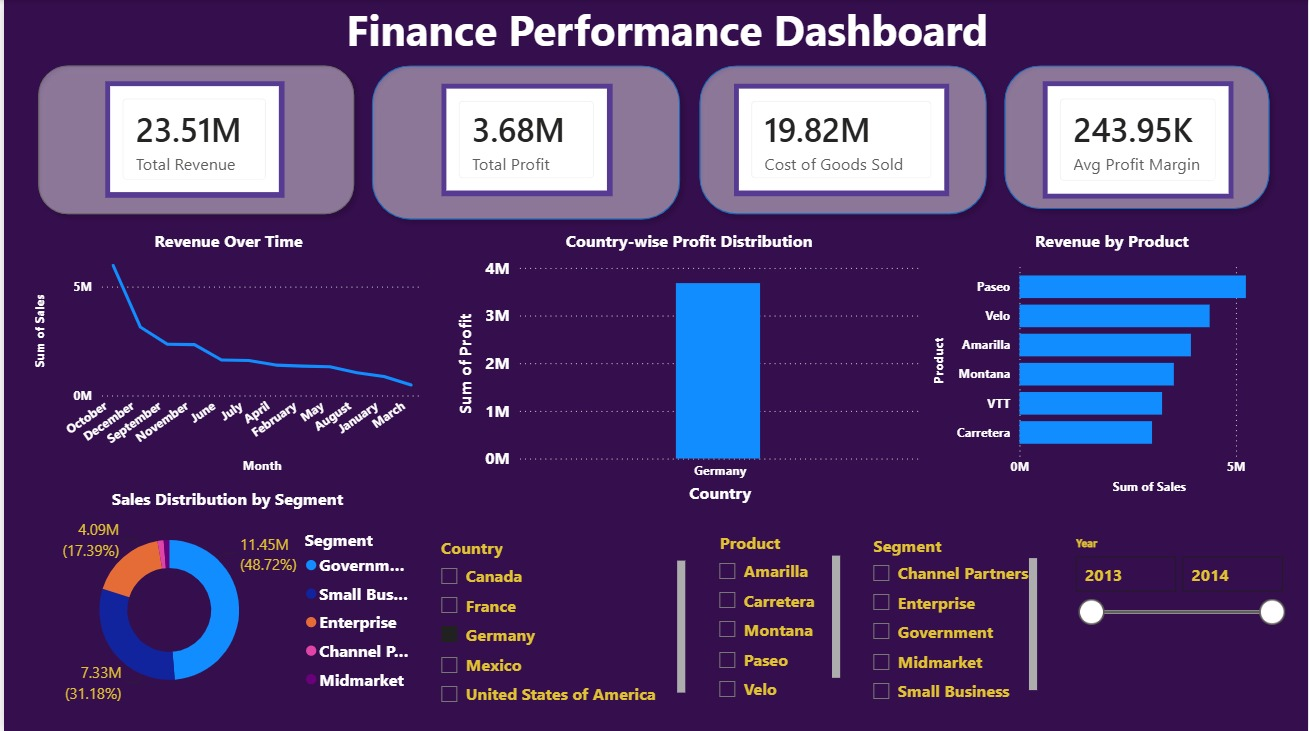

Layout of this report page (visuals, bound fields, positions):
{"tool":"powerbi","page":{"name":"Page 1","canvas":[1280,720],"ordinal":0},"visuals":[{"type":"shape","box":[24.4,55.1,328.2,164.1],"z":0},{"type":"cardVisual","fields":{"Data":["Sum(financials. Sales)"]},"box":[100,79.5,175.6,114.1],"z":1000},{"type":"shape","box":[352.6,55.1,320.5,169.2],"z":2000},{"type":"cardVisual","fields":{"Data":["Sum(financials.Profit)"]},"box":[429.5,82.1,167.9,110.3],"z":3000},{"type":"shape","box":[673.1,55.1,300,164.1],"z":4000},{"type":"cardVisual","fields":{"Data":["Sum(financials.COGS)"]},"box":[716.7,82.1,211.5,110.3],"z":5000},{"type":"lineChart","title":"Revenue Over Time","fields":{"Category":["financials.Month Name"],"Y":["Sum(financials. Sales)"]},"box":[25.6,224.4,389.7,244.9],"z":6000},{"type":"clusteredColumnChart","title":"Country-wise Profit Distribution","fields":{"Category":["financials.Country"],"Y":["Sum(financials.Profit)"]},"box":[441,224.4,464.1,274.4],"z":7000},{"type":"clusteredBarChart","title":"Revenue by Product","fields":{"Category":["financials.Product"],"Y":["Sum(financials. Sales)"]},"box":[907.7,224.4,359,265.4],"z":8000},{"type":"donutChart","title":"Sales Distribution by Segment","fields":{"Category":["financials.Segment"],"Y":["Sum(financials. Sales)"]},"box":[24.4,478.2,389.7,219.2],"z":9000},{"type":"slicer","fields":{"Values":["financials.Country"]},"box":[415.4,521.8,257.7,175.6],"z":10000},{"type":"slicer","fields":{"Values":["financials.Product"]},"box":[689.7,516.7,135.9,178.2],"z":11000},{"type":"slicer","fields":{"Values":["financials.Segment"]},"box":[841,519.2,178.2,175.6],"z":12000},{"type":"slicer","fields":{"Values":["financials.Year"]},"box":[1039.7,521.8,226.9,98.7],"z":13000},{"type":"shape","box":[973.1,55.1,278.2,159],"z":14000},{"type":"cardVisual","fields":{"Data":["Sum(financials.Profit Margin)"]},"box":[1019.2,79.5,187.2,115.4],"z":15000},{"type":"actionButton","title":"Finance Performance Dashboard","box":[188.5,0,924.4,55.1],"z":16000}]}

Visuals, with their boxes in screenshot pixels (x1, y1, x2, y2), scaled from the page's 1280x720 canvas onto the 1309x731 screenshot:
shape: 25, 56, 361, 223
cardVisual - Sum(financials. Sales): 102, 81, 282, 197
shape: 361, 56, 688, 228
cardVisual - Sum(financials.Profit): 439, 83, 611, 195
shape: 688, 56, 995, 223
cardVisual - Sum(financials.COGS): 733, 83, 949, 195
"Revenue Over Time" lineChart: 26, 228, 425, 476
"Country-wise Profit Distribution" clusteredColumnChart: 451, 228, 926, 506
"Revenue by Product" clusteredBarChart: 928, 228, 1295, 497
"Sales Distribution by Segment" donutChart: 25, 486, 423, 708
slicer - financials.Country: 425, 530, 688, 708
slicer - financials.Product: 705, 525, 844, 706
slicer - financials.Segment: 860, 527, 1042, 705
slicer - financials.Year: 1063, 530, 1295, 630
shape: 995, 56, 1280, 217
cardVisual - Sum(financials.Profit Margin): 1042, 81, 1234, 198
"Finance Performance Dashboard" actionButton: 193, 0, 1138, 56
